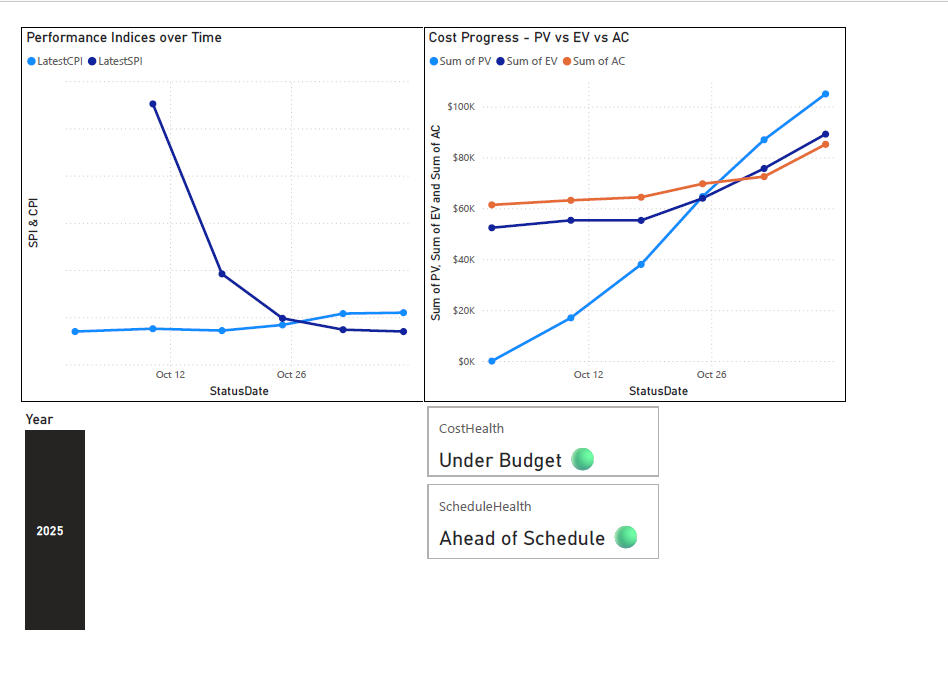

Layout of this report page (visuals, bound fields, positions):
{"tool":"powerbi","page":{"name":"Page 1","canvas":[1280,720],"ordinal":0},"visuals":[{"type":"lineChart","title":"Performance Indices over Time","fields":{"Y":["metrics_history.LatestCPI","metrics_history.LatestSPI"],"Category":["metrics_history.StatusDate"]},"box":[0,0,477.5,444.6],"z":0},{"type":"lineChart","title":"Cost Progress - PV vs EV vs AC","fields":{"Y":["Sum(metrics_history.PV)","Sum(metrics_history.EV)","Sum(metrics_history.AC)"],"Category":["metrics_history.StatusDate"]},"box":[477.5,0,500.9,444.6],"z":1},{"type":"advancedSlicerVisual","fields":{"Values":["metrics_history.StatusDate.Variation.Date Hierarchy.Year"]},"box":[0,455.6,238.8,264.8],"z":2}]}

Visuals, with their boxes on the page's 1280x720 design canvas (x1, y1, x2, y2). These are canvas units, not pixel positions in the 948x693 screenshot, which may show the page scaled, cropped or inside an application window:
"Performance Indices over Time" lineChart: BBox(0, 0, 478, 445)
"Cost Progress - PV vs EV vs AC" lineChart: BBox(478, 0, 978, 445)
advancedSlicerVisual - metrics_history.StatusDate.Variation.Date Hierarchy.Year: BBox(0, 456, 239, 720)
